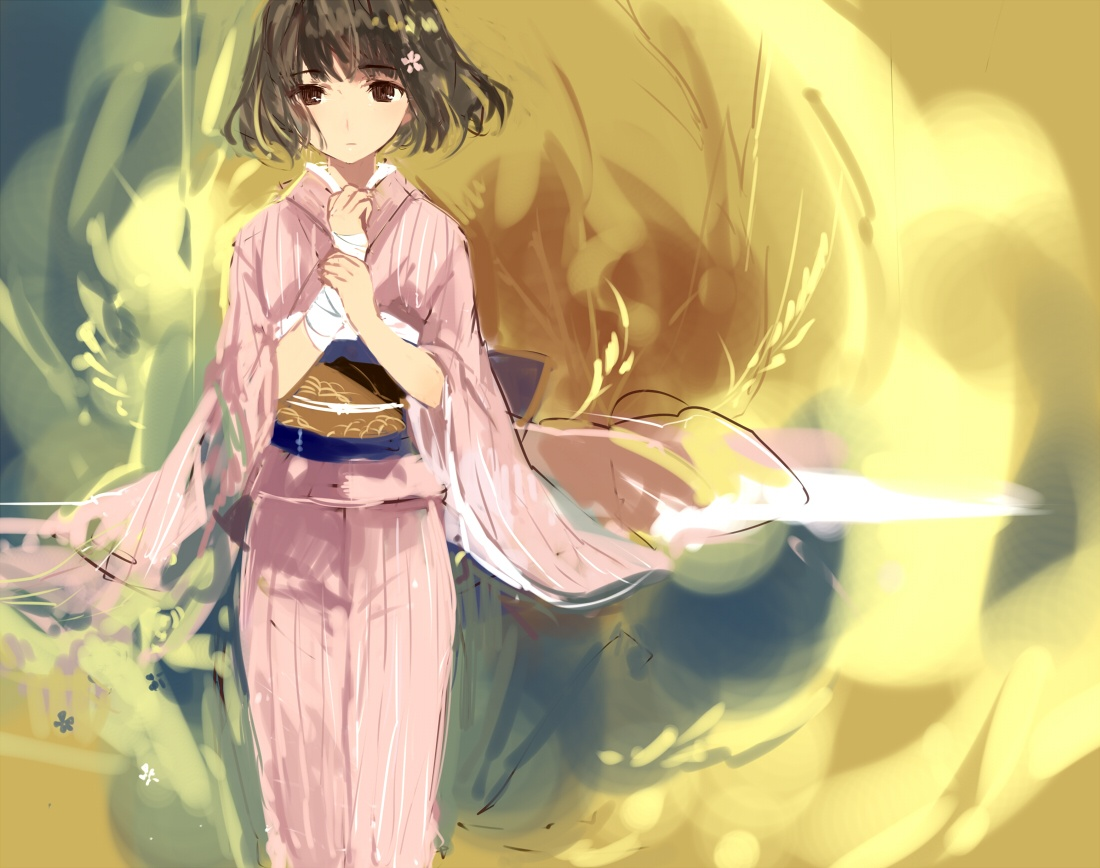纸片人正脸: (245, 4, 462, 171)
